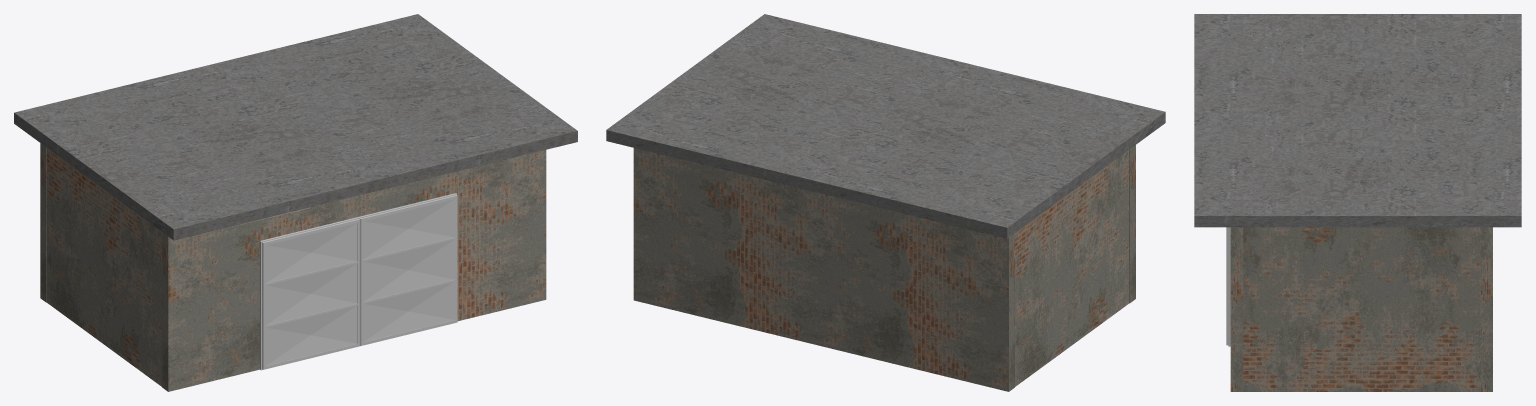
Rendered from Gudang.fbx.
The picture shows the model from 3 angles, left to right: view 1: azimuth 30°, elevation 25°; view 2: azimuth 150°, elevation 25°; view 3: azimuth 270°, elevation 25°; orthographic projection. The views are drawn at different scales.
Visible parts, largest first — view 1: Cube.302, wing_1, wing_2, gate_1; view 2: Cube.302; view 3: Cube.302, gate_1, wing_2.
Part boxes in pixels (bbox=[...]): Cube.302: bbox=[14, 14, 577, 391]; wing_1: bbox=[262, 219, 359, 369]; wing_2: bbox=[360, 195, 457, 345]; gate_1: bbox=[260, 193, 457, 370]; Cube.302: bbox=[606, 14, 1165, 391]; Cube.302: bbox=[1194, 14, 1521, 391]; gate_1: bbox=[1228, 227, 1230, 346]; wing_2: bbox=[1226, 227, 1228, 345].
Size of the model in its own units: 379 by 160 by 260.
